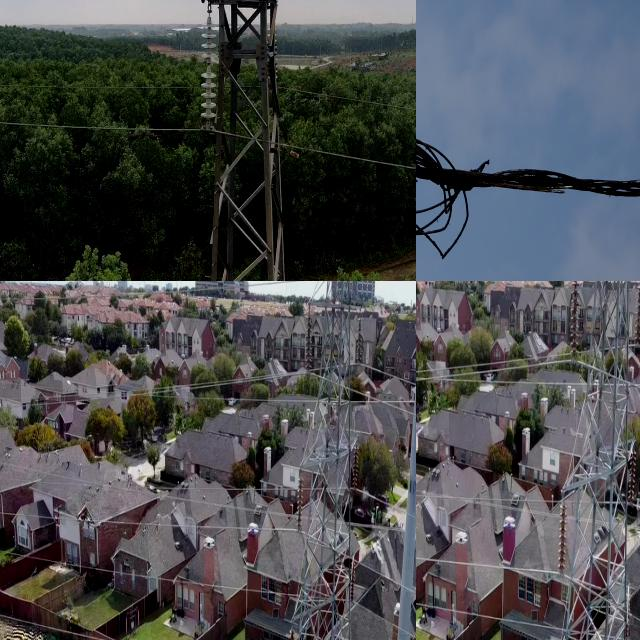杆塔: (557, 281, 640, 640), (192, 0, 296, 281), (292, 281, 362, 640)
正常电缆: (416, 591, 555, 640), (416, 548, 544, 580)
正常绝缘子: (196, 6, 219, 129), (567, 281, 581, 370), (302, 303, 316, 380), (557, 493, 569, 581), (628, 449, 639, 506), (355, 309, 365, 369), (295, 470, 303, 534), (634, 281, 640, 361), (348, 554, 357, 606), (351, 438, 359, 492), (287, 625, 297, 640)
电缆破损: (416, 110, 638, 262)
绝缘子破损: (206, 59, 212, 71)
